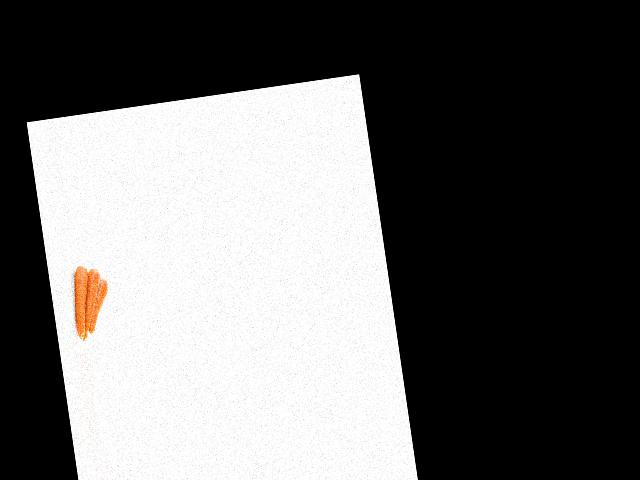carrot: (64, 262, 97, 339)
